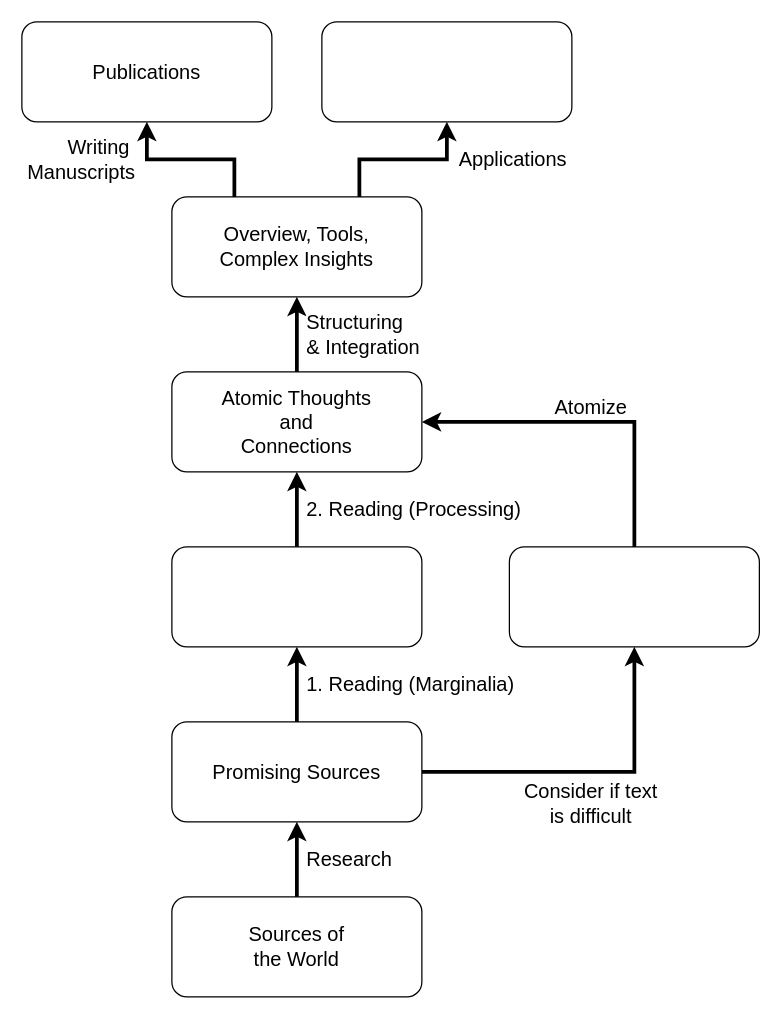
This 781x1019 diagram has some shape labels left out. Here are the shapes that lost their labels. From the top down, the box of each, then its label:
(321, 21, 572, 122): Better Habits and Actions
(171, 546, 422, 647): Promising Sections/Paragraphs
(508, 546, 759, 647): Excerpts
